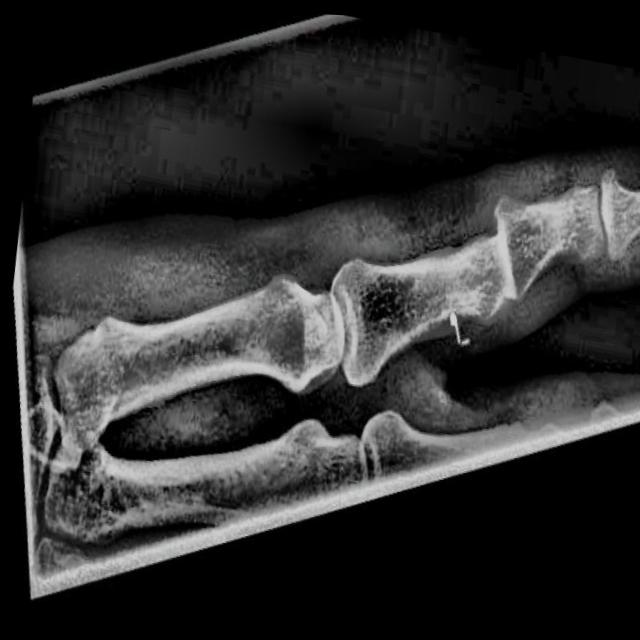fracture: (73, 309, 129, 433), (478, 213, 529, 306)
